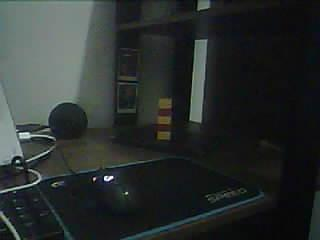lego: (156, 96, 173, 142)
